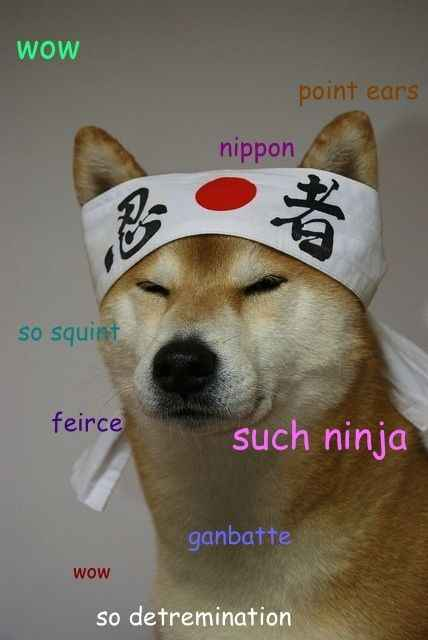doge: (90, 250, 318, 436)
